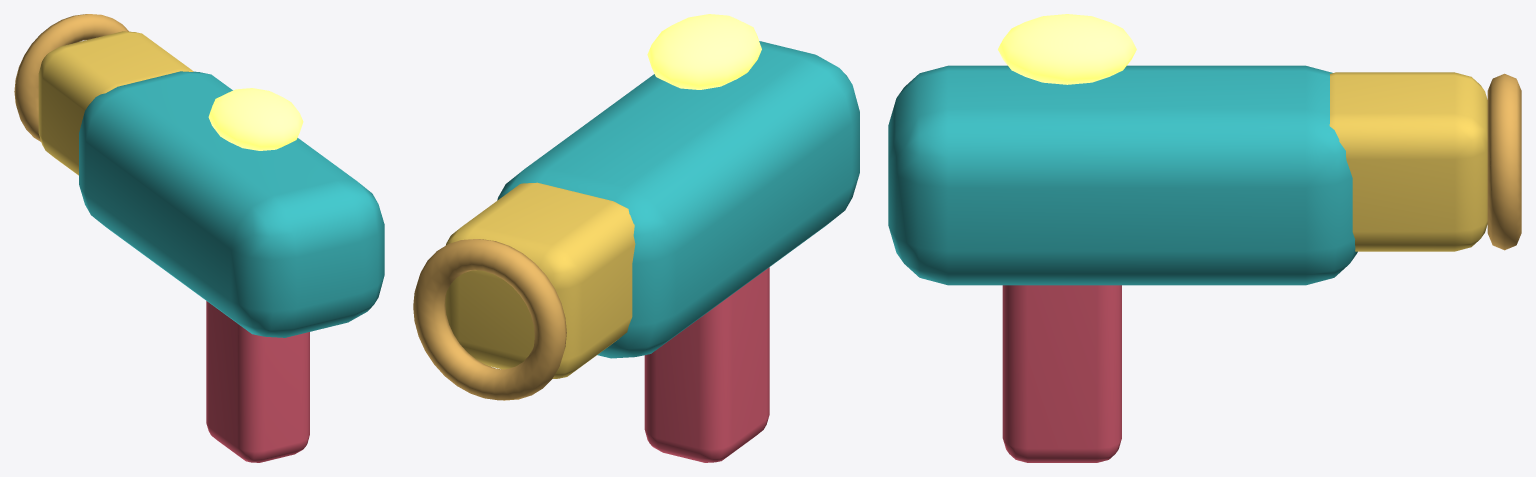
Rendered from weapon_blaster.glb.
The picture shows the model from 3 angles, left to right: view 1: azimuth 30°, elevation 25°; view 2: azimuth 150°, elevation 25°; view 3: azimuth 270°, elevation 25°; orthographic projection. The views are drawn at different scales.
Parts seen in each view (by area): view 1: weapon_blaster; view 2: weapon_blaster; view 3: weapon_blaster.
Boxes of the visible parts, x1,y1,x2,y2 form: weapon_blaster: (14, 14, 384, 462); weapon_blaster: (413, 14, 859, 462); weapon_blaster: (888, 14, 1521, 462).
Bounding box in the file's own units: 0.21 × 0.475 × 0.637.
